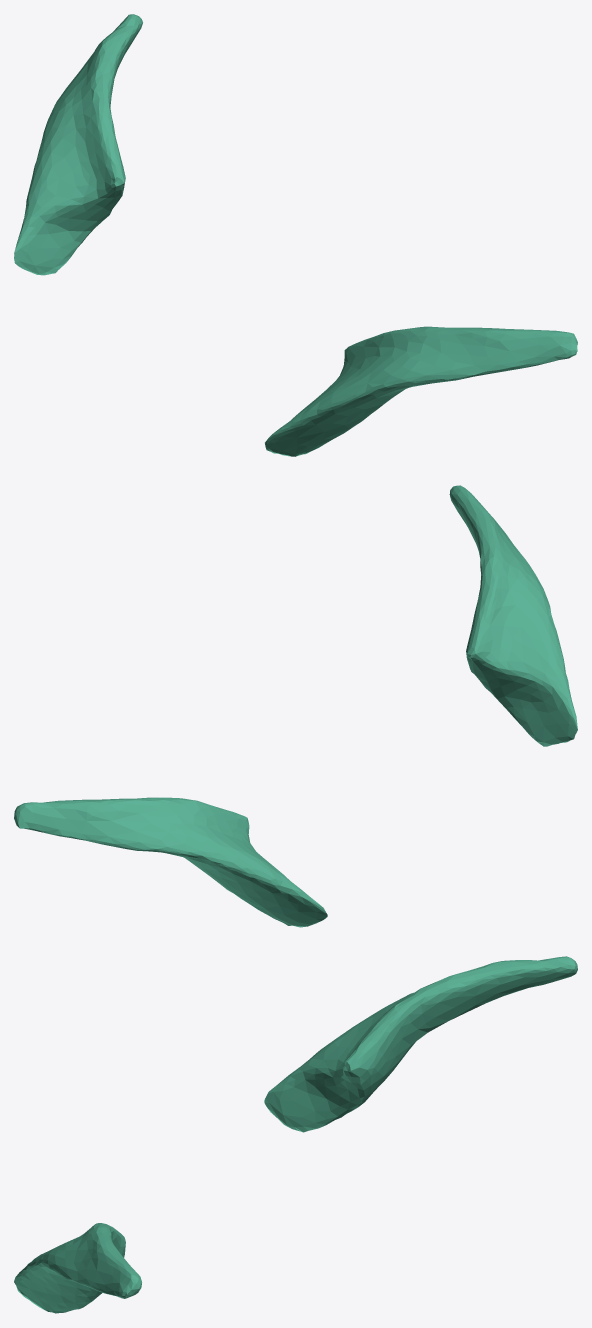
3 renders of one model, top to bottom at view 1: azimuth 30°, elevation 25°; view 2: azimuth 150°, elevation 25°; view 3: azimuth 330°, elevation 25°, orthographic.
Parts seen in each view (by area): view 1: 800.obj; view 2: 800.obj; view 3: 800.obj.
Part boxes in pixels (x1=…): 800.obj: x1=14, y1=14, x2=577, y2=456; 800.obj: x1=14, y1=485, x2=577, y2=927; 800.obj: x1=14, y1=956, x2=577, y2=1313.
Bounding box in the file's own units: 2048 × 1331 × 7258.
